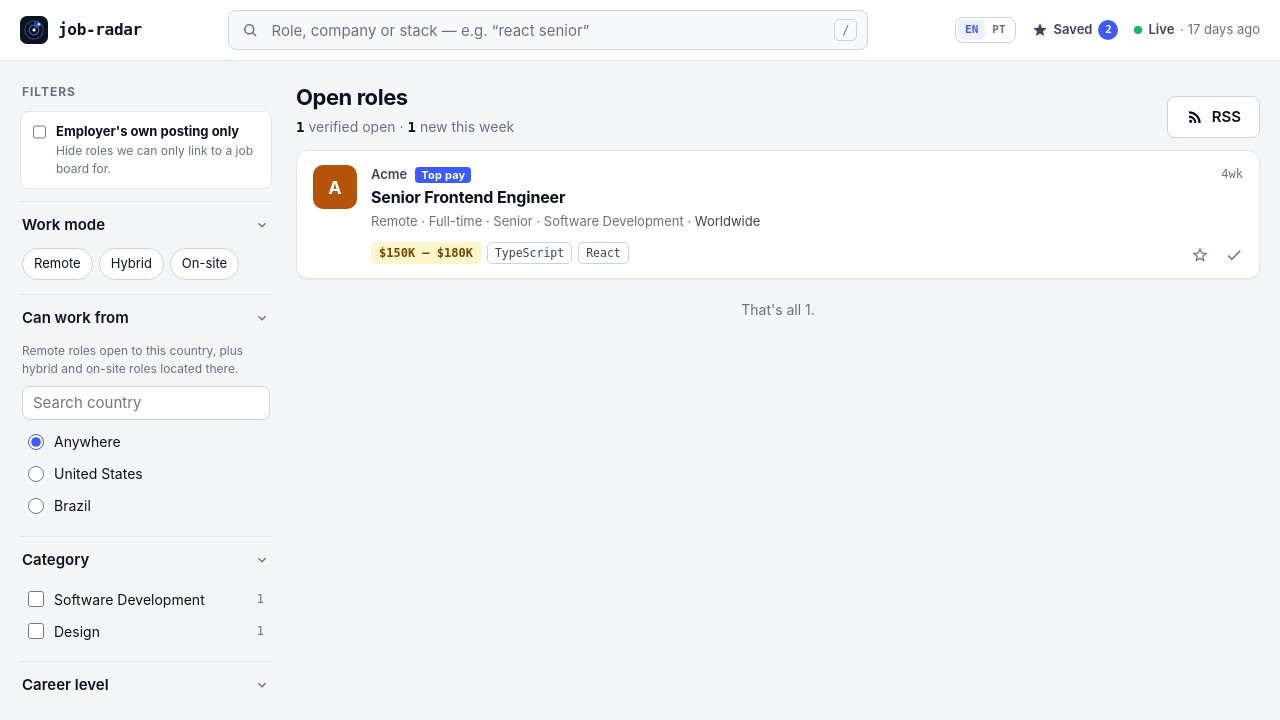
Saved view › lists saved roles newest first from their snapshot, including closed ones
Click the link with aria-label "Saved roles (2)" at (1075, 30), box [1032,20,1118,40]
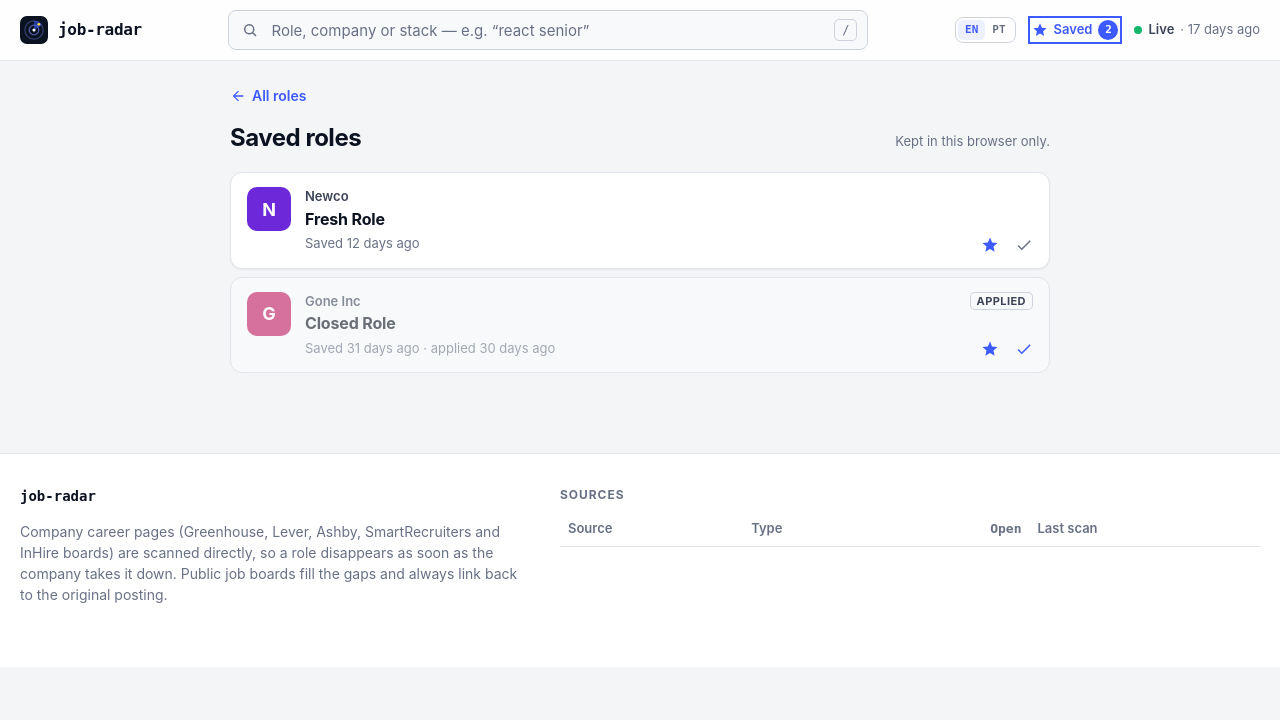
Now the text "Applied" is shown, box [970,292,1033,310]
Click the button named "Save Fresh Role" at (990, 245), box [975,230,1005,260]
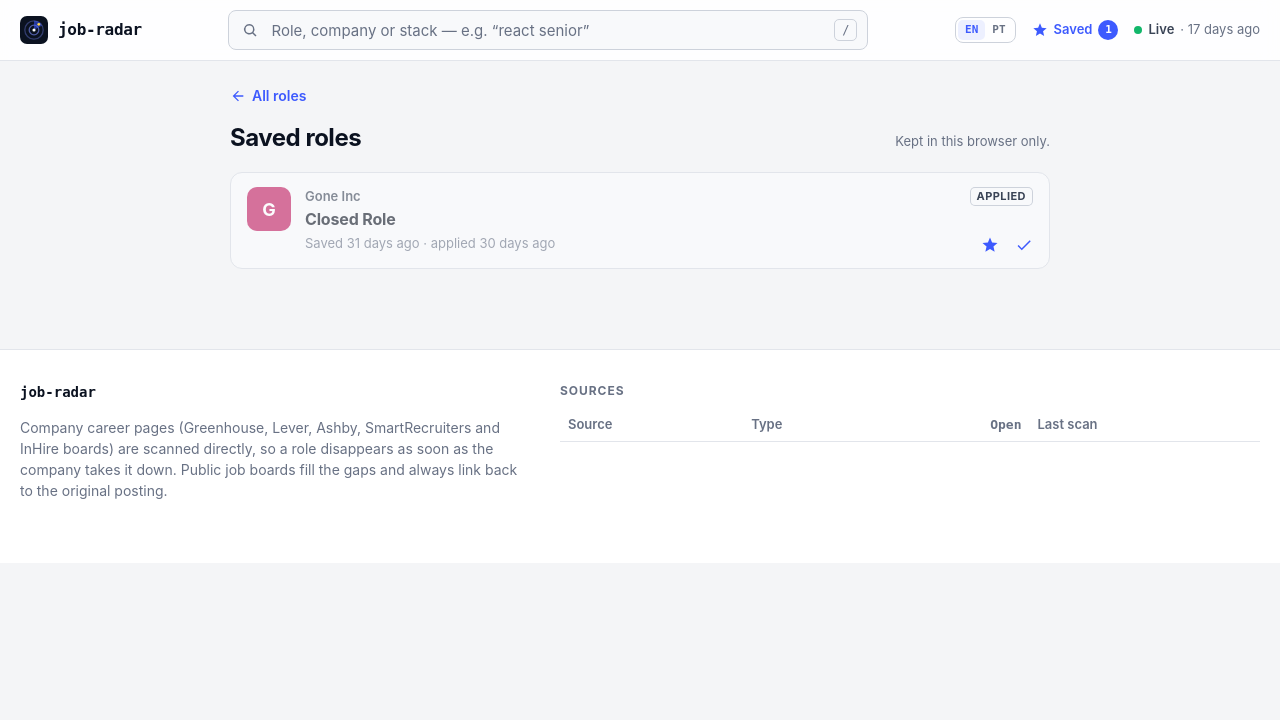
Now the link "Fresh Role" is gone
Now the link with aria-label "Saved roles (1)" is shown, box [1032,20,1118,40]
